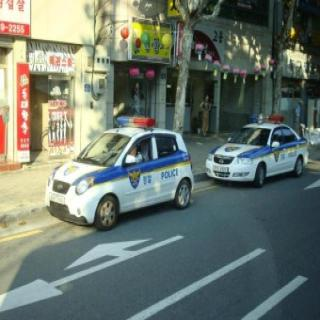Police_car: (45, 115, 194, 233), (205, 112, 310, 192)
